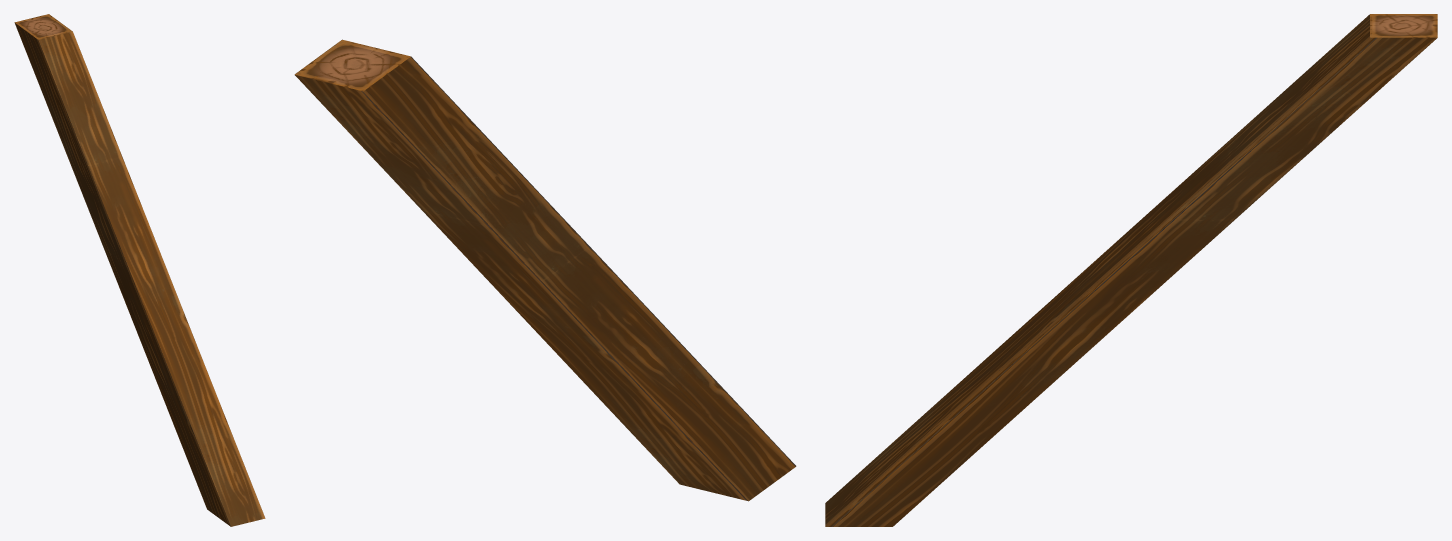
The picture shows the model from 3 angles, left to right: view 1: azimuth 30°, elevation 25°; view 2: azimuth 150°, elevation 25°; view 3: azimuth 270°, elevation 25°; orthographic projection. The views are drawn at different scales.
Visible parts, largest first — view 1: Cube.2112; view 2: Cube.2112; view 3: Cube.2112.
Boxes of the visible parts, <box> form: Cube.2112: <box>14,14,265,526</box>; Cube.2112: <box>294,39,796,501</box>; Cube.2112: <box>825,14,1437,526</box>.
Size of the model in its own units: 17.09 by 164 by 186.
Materials: 1 (1 with a texture image).
